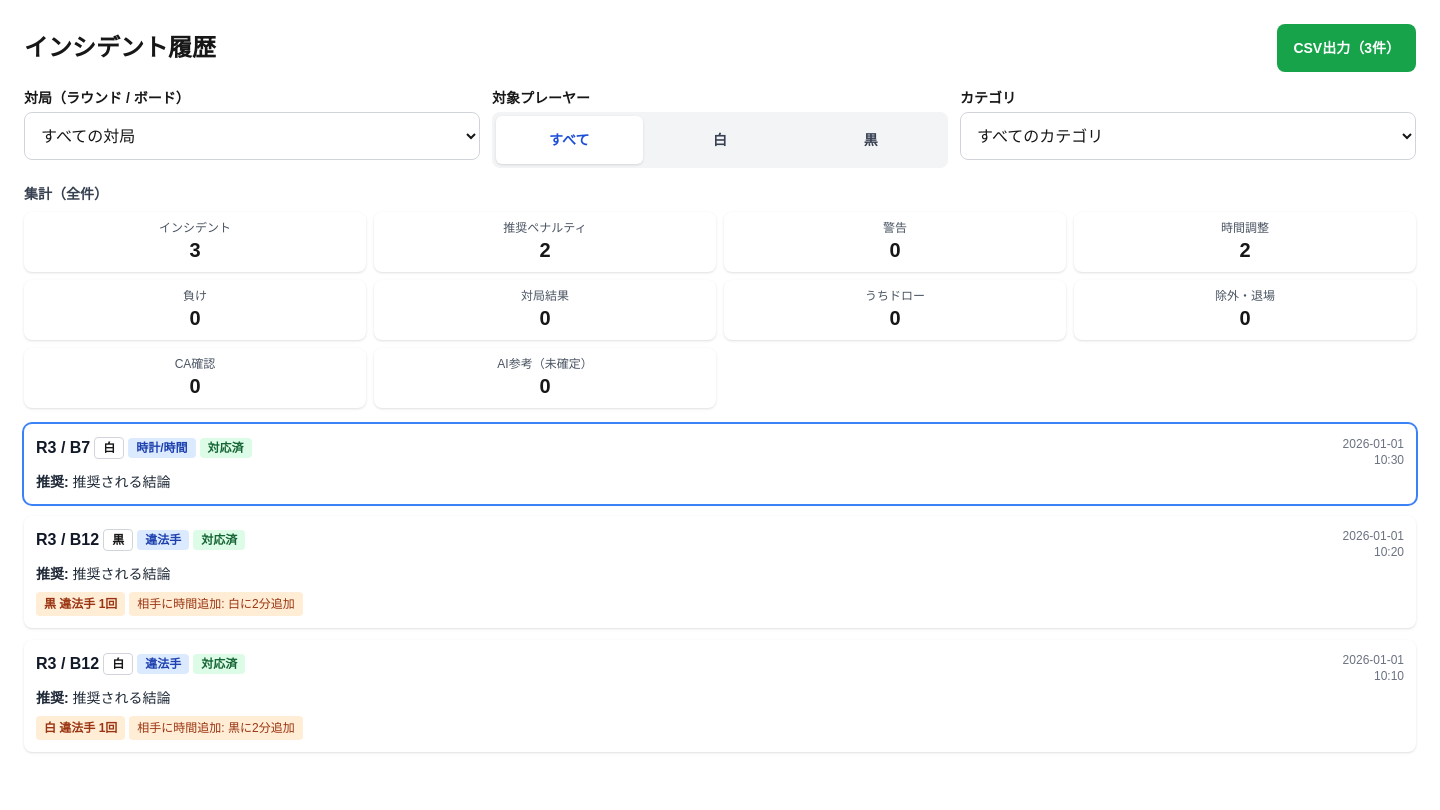
it: IncidentLogView › opens an accessible dialog and closes it with Escape, restoring focus
This screenshot has width=1440, height=810.
Click the button "R3 / B7 白 時計/時間 対応済 2026-01-0110:30 推奨: 推奨される結論" at (63, 448), box [24,424,1416,504]
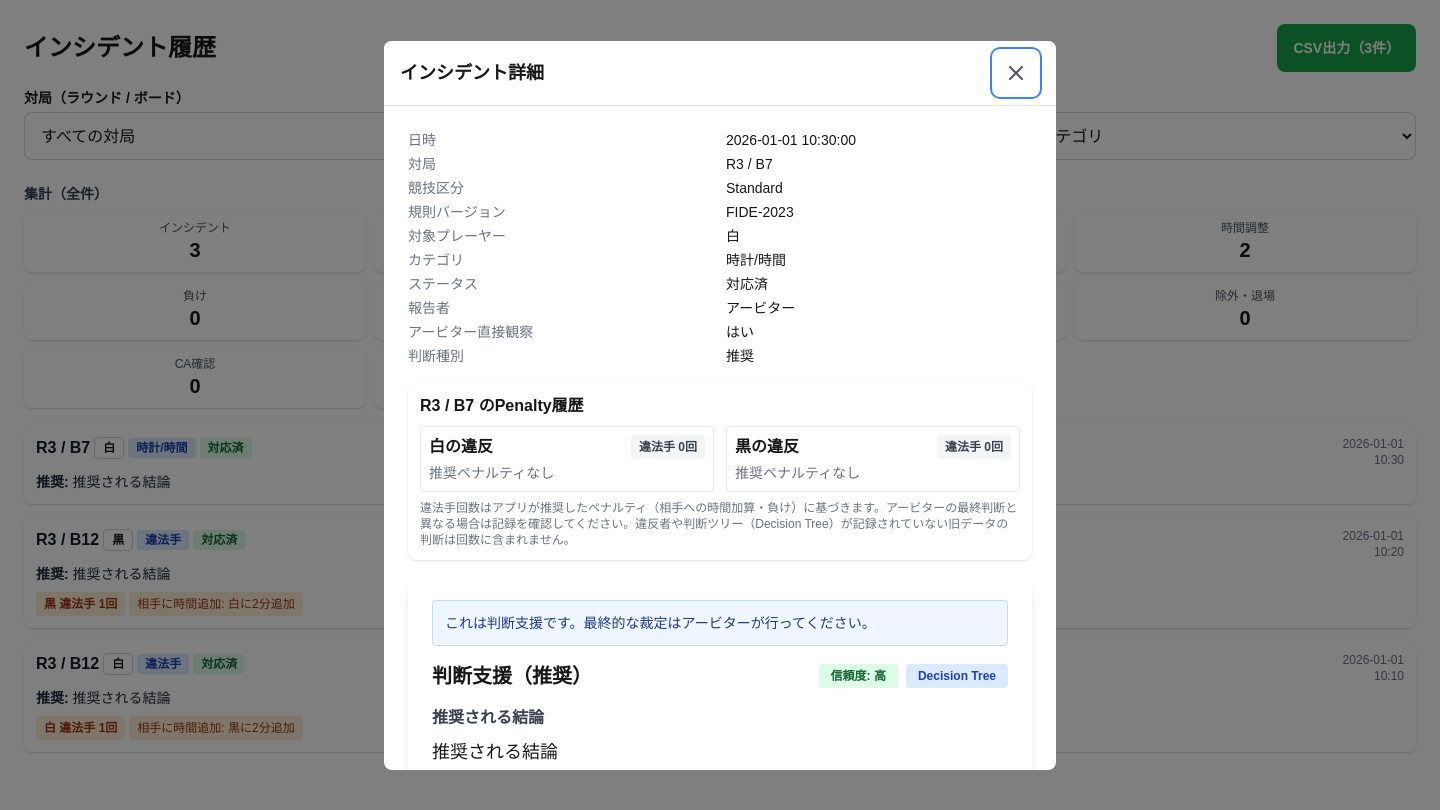
Now the heading "判断支援（推奨）" is shown, box [432,662,592,690]
Press Escape
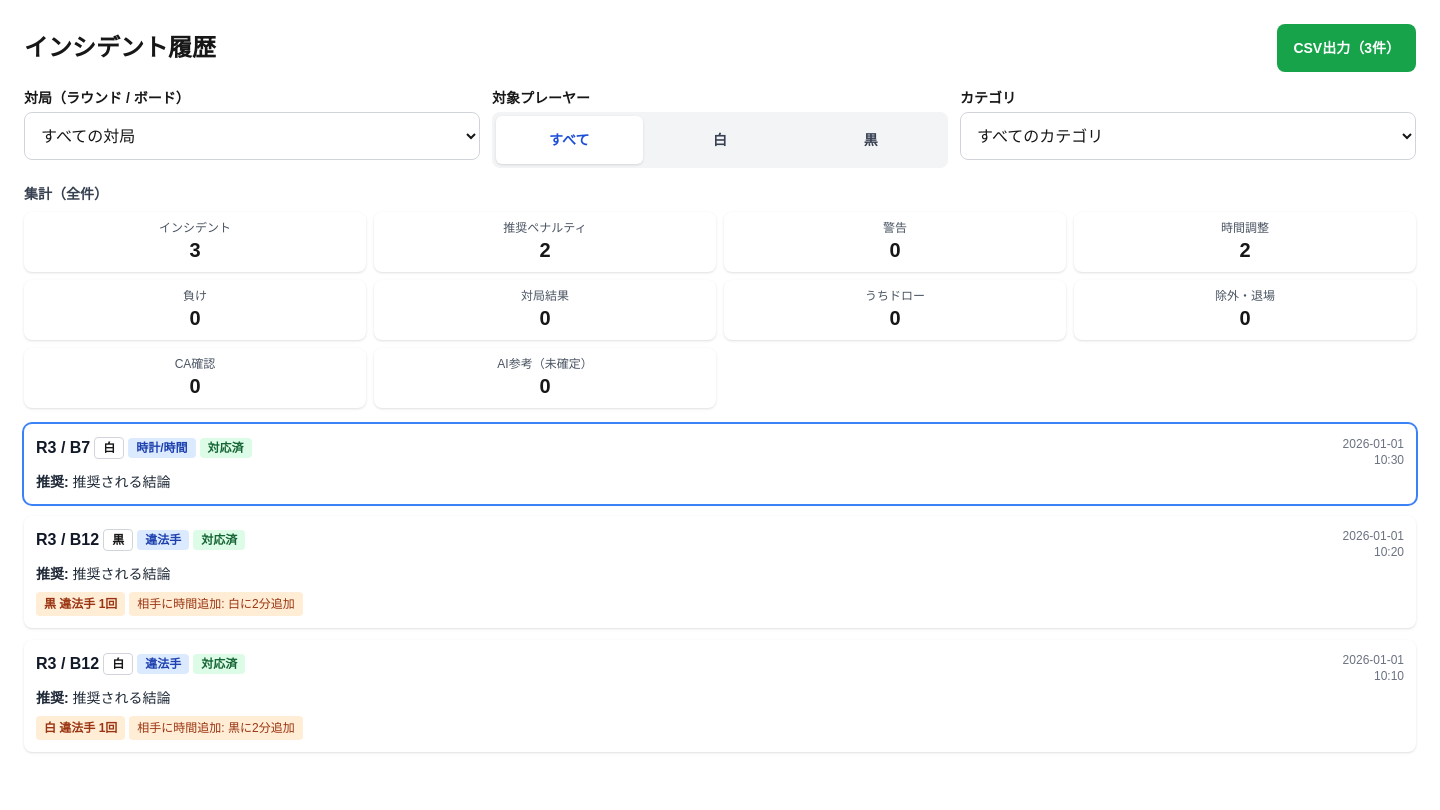
Now the dialog is gone
